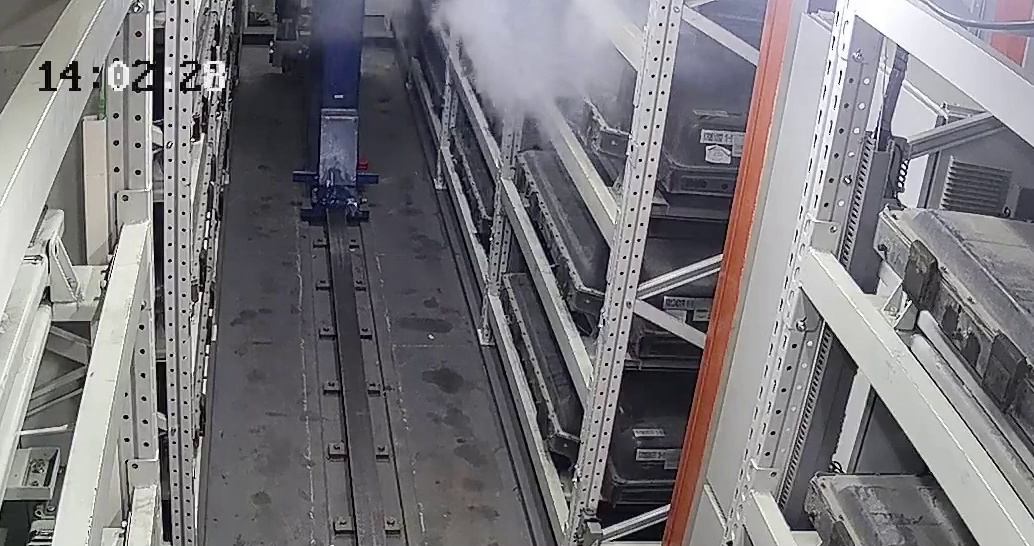smoke: (429, 9, 610, 119)
